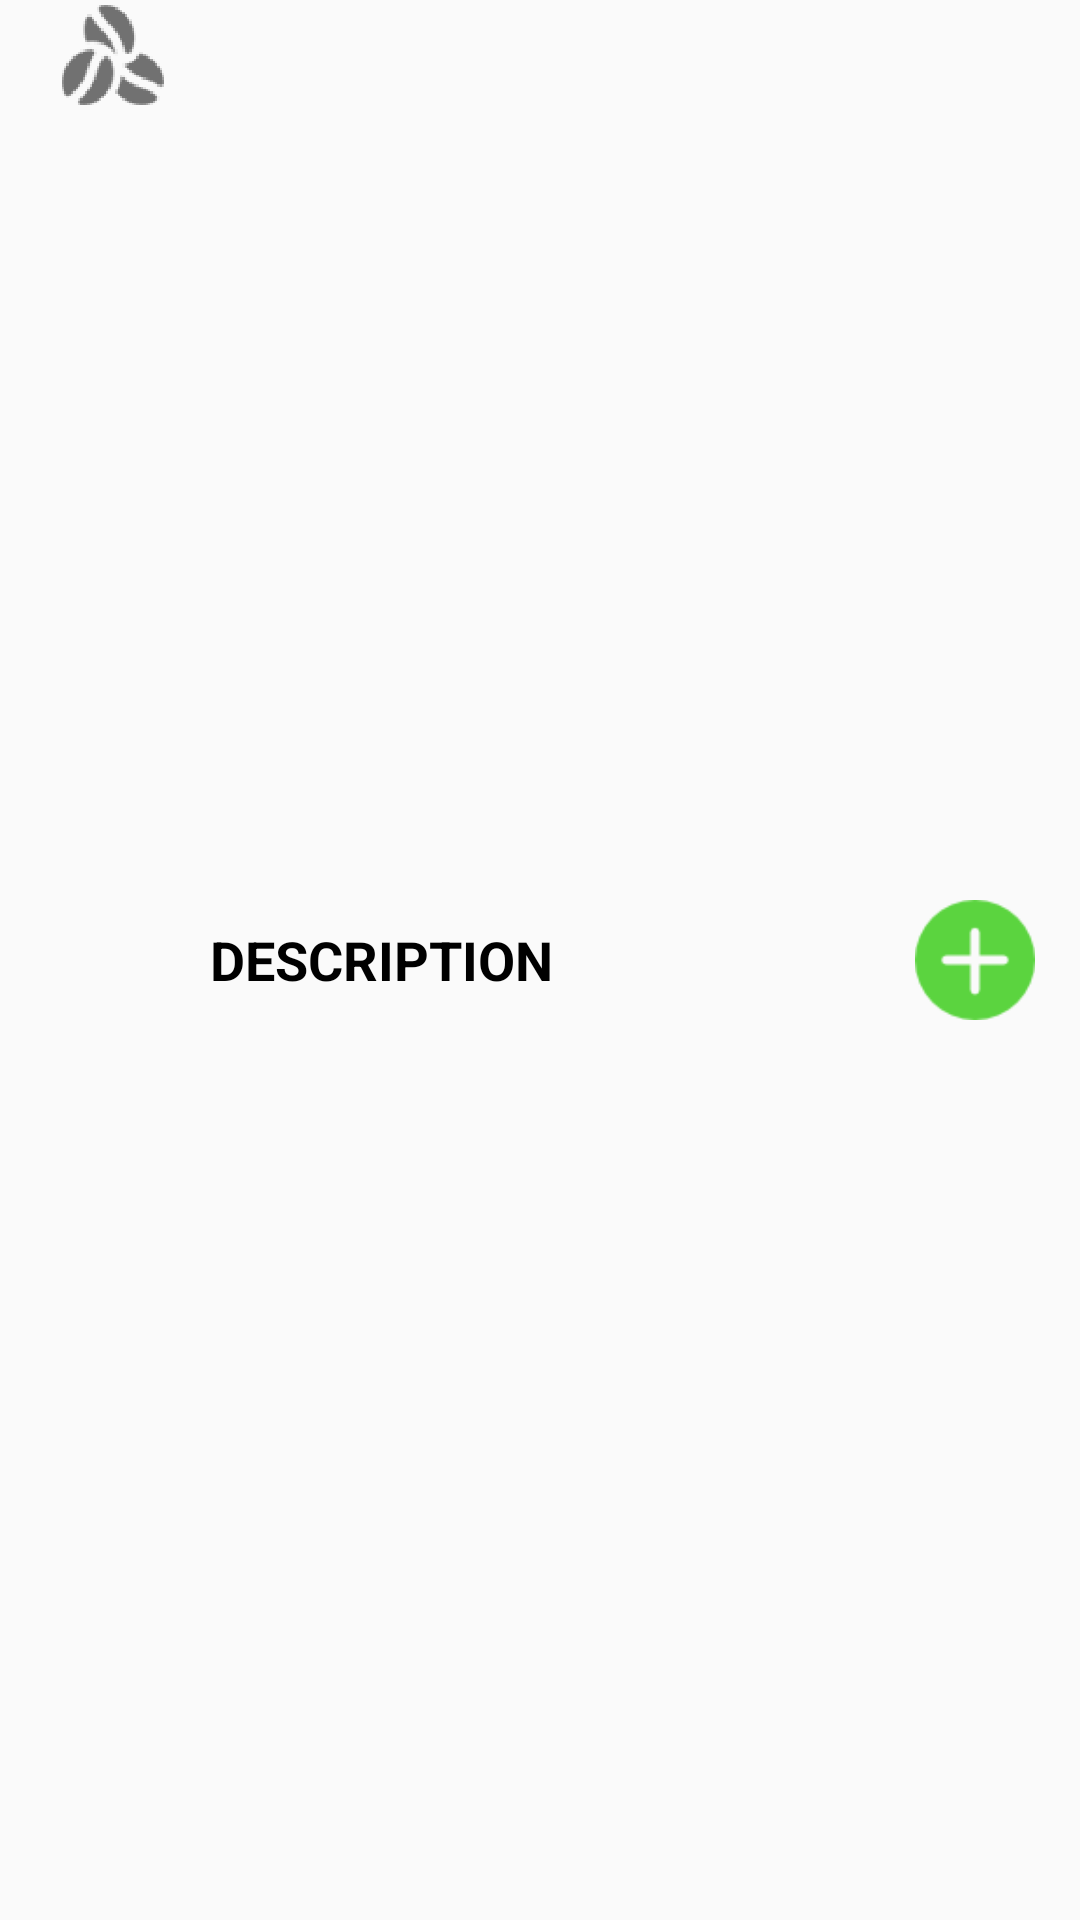

Where to tap for icons on this 1080px x 1920px app screen, as [x,y]:
coffee beans: [113,55]
plus: [975,960]
